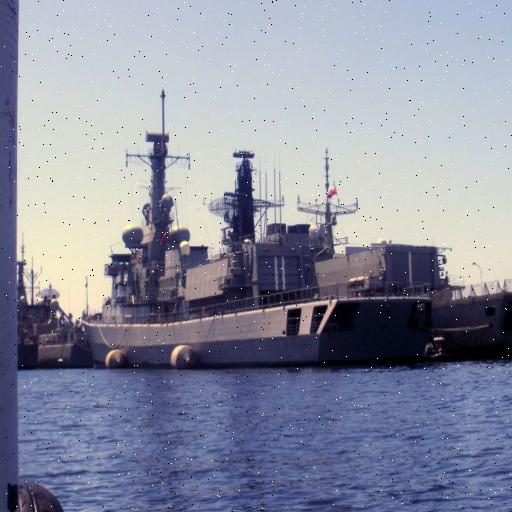Fragata: (70, 84, 443, 375)
